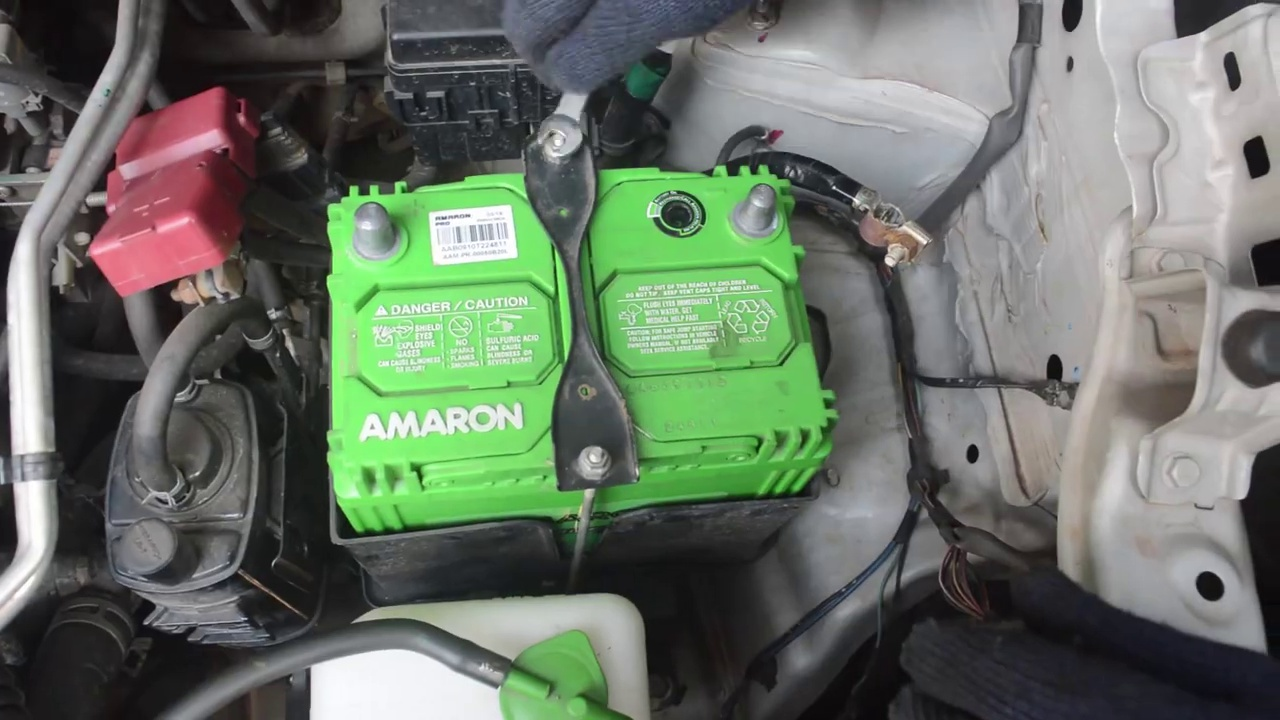battery: (316, 180, 844, 473)
neg_disconnected: (707, 162, 808, 253)
pos_disconnected: (109, 104, 401, 292)
